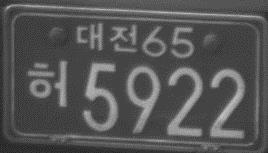2: (207, 66, 246, 138), (166, 67, 203, 138)
5: (83, 60, 119, 132), (170, 26, 196, 60)
6: (140, 23, 168, 57)
9: (125, 65, 161, 136)
대전_O: (75, 22, 138, 54)
허: (26, 57, 70, 110)
